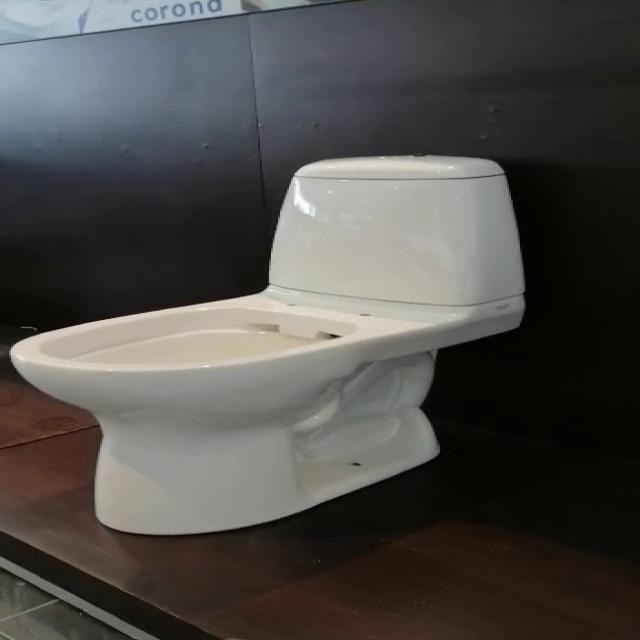toilet: (8, 152, 526, 536)
